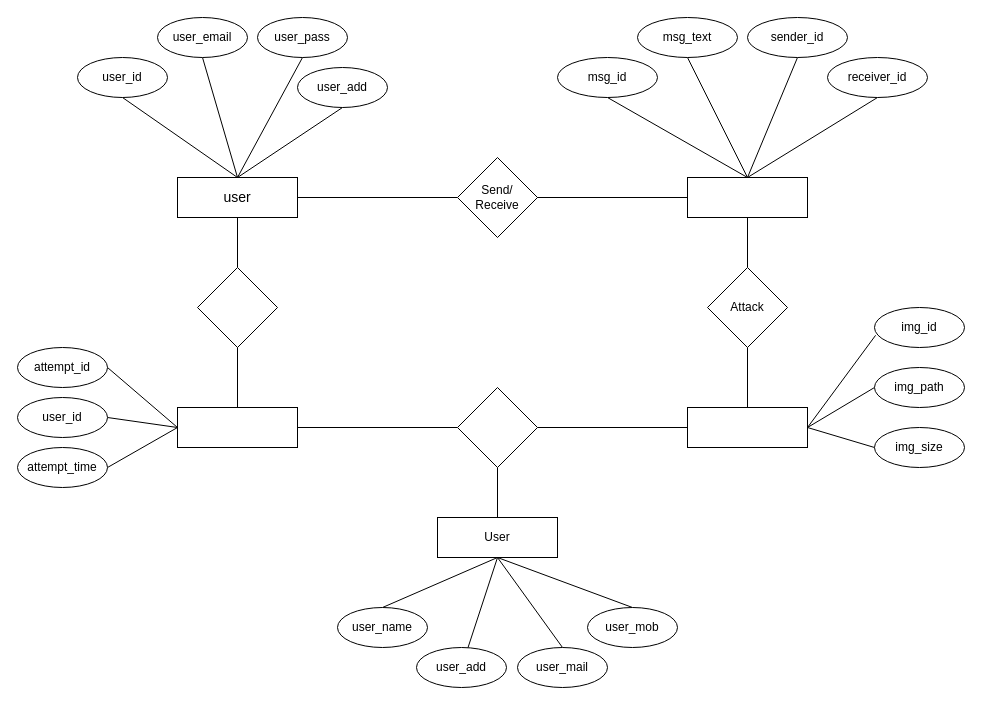
The diagram is 982 pixels wide and 705 high, and some of its shapes have lost their labels. Each missing label, with the box of its shape:
Has: (196, 266, 278, 348)
image: (686, 406, 808, 448)
login_attempt: (176, 406, 298, 448)
Manage/ Update: (456, 386, 538, 468)
message: (686, 176, 808, 218)
